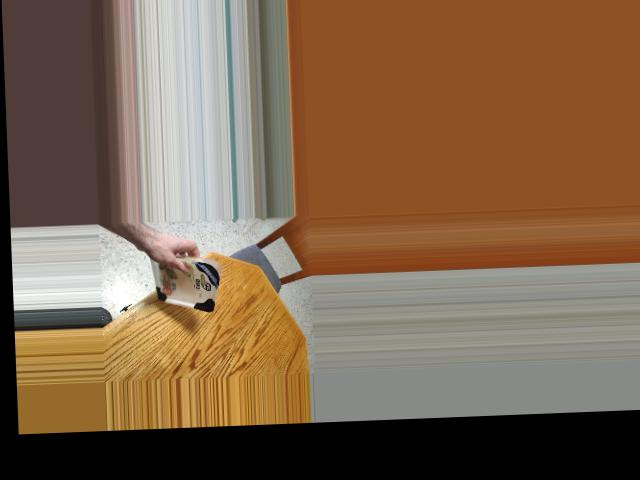cheese: (142, 255, 225, 309)
